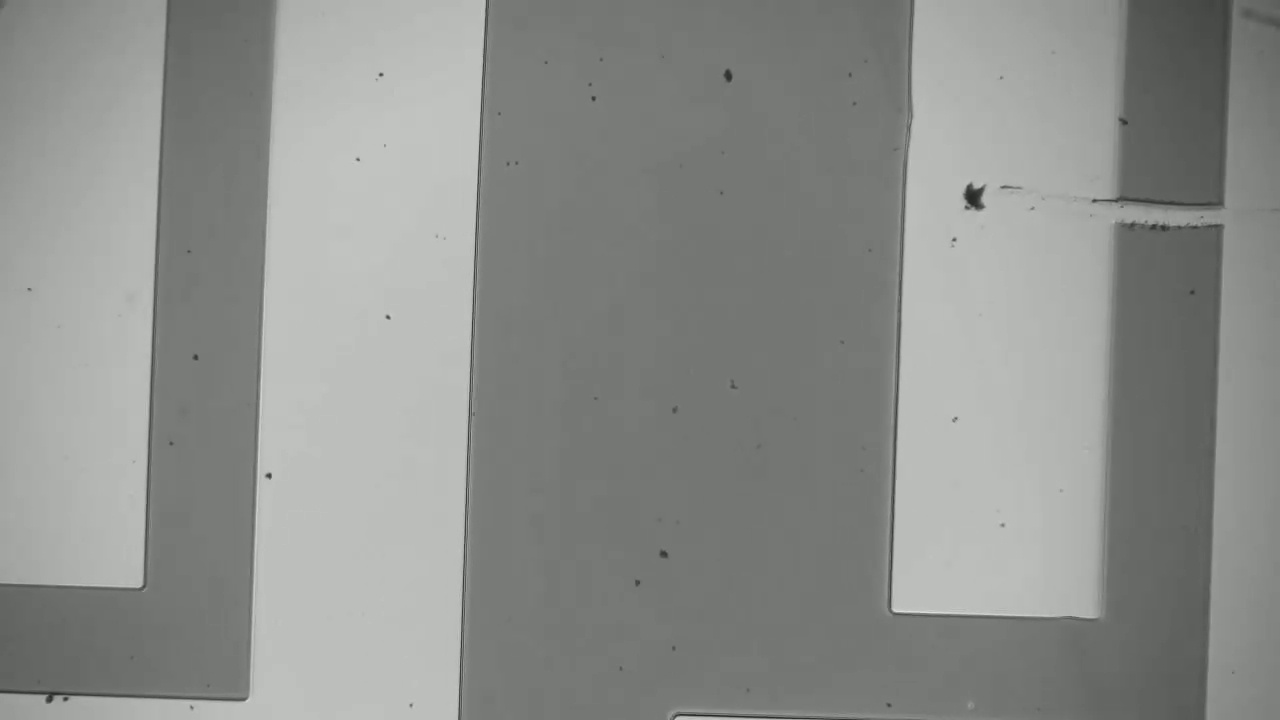Short_circuit: (1094, 180, 1253, 248)
